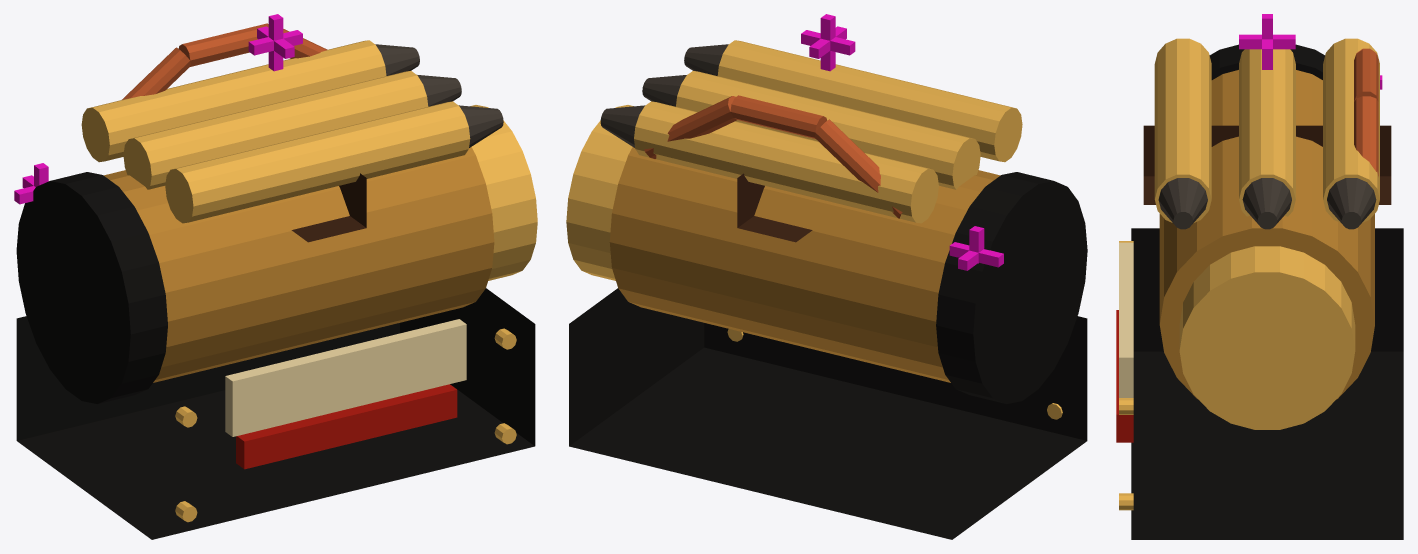
File: PICKUP_ScattergunSlugCanister_Blockout.obj
3 renders of one model, left to right at view 1: azimuth 30°, elevation 25°; view 2: azimuth 150°, elevation 25°; view 3: azimuth 270°, elevation 25°, orthographic.
Parts seen in each view (by area): view 1: CANISTER_BlackenedRackBase, CANISTER_MainSlugDrum, CANISTER_LeftIronCap, SLUG_BrassVisibleRound_03, LABEL_CreamSlugPlate, SLUG_BrassVisibleRound_02, SLUG_BrassVisibleRound_01, LABEL_RedAmmoStripe, CANISTER_RightValveCap, STRAP_DarkLeatherOverDrum, HANDLE_CopperCarryLoop_B, SOCKET_PickupVFX (+5 smaller); view 2: CANISTER_BlackenedRackBase, CANISTER_MainSlugDrum, CANISTER_LeftIronCap, SLUG_BrassVisibleRound_01, SLUG_BrassVisibleRound_03, SLUG_BrassVisibleRound_02, CANISTER_RightValveCap, HANDLE_CopperCarryLoop_B, HANDLE_CopperCarryLoop_A, STRAP_DarkLeatherOverDrum, SOCKET_PickupVFX, HANDLE_CopperCarryLoop_C (+4 smaller); view 3: CANISTER_BlackenedRackBase, CANISTER_RightValveCap, CANISTER_MainSlugDrum, SLUG_BrassVisibleRound_03, SLUG_BrassVisibleRound_02, SLUG_BrassVisibleRound_01, STRAP_DarkLeatherOverDrum, LABEL_CreamSlugPlate, SLUG_HeatTip_03, SLUG_HeatTip_01, SLUG_HeatTip_02, HANDLE_CopperCarryLoop_C (+4 smaller).
Part boxes in pixels (x1,y1,x2,y2): CANISTER_BlackenedRackBase: (16,288,535,539); CANISTER_MainSlugDrum: (104,147,494,382); CANISTER_LeftIronCap: (16,172,167,403); SLUG_BrassVisibleRound_03: (165,101,470,223); LABEL_CreamSlugPlate: (225,319,466,436); SLUG_BrassVisibleRound_02: (123,71,428,189); SLUG_BrassVisibleRound_01: (81,40,386,162); LABEL_RedAmmoStripe: (236,384,457,469); CANISTER_RightValveCap: (470,105,537,280); STRAP_DarkLeatherOverDrum: (291,173,366,242); HANDLE_CopperCarryLoop_B: (178,23,268,66); SOCKET_PickupVFX: (248,14,302,71); CANISTER_BlackenedRackBase: (569,288,1087,539); CANISTER_MainSlugDrum: (609,147,1000,382); CANISTER_LeftIronCap: (936,172,1087,403); SLUG_BrassVisibleRound_01: (634,101,938,223); SLUG_BrassVisibleRound_03: (717,40,1022,162); SLUG_BrassVisibleRound_02: (676,71,980,189); CANISTER_RightValveCap: (566,105,633,280); HANDLE_CopperCarryLoop_B: (730,95,826,138); HANDLE_CopperCarryLoop_A: (814,119,902,218); STRAP_DarkLeatherOverDrum: (737,173,812,242); SOCKET_PickupVFX: (801,14,855,71); HANDLE_CopperCarryLoop_C: (644,96,736,158); CANISTER_BlackenedRackBase: (1131,228,1403,539); CANISTER_RightValveCap: (1179,246,1355,429); CANISTER_MainSlugDrum: (1159,70,1374,399); SLUG_BrassVisibleRound_03: (1154,38,1211,222); SLUG_BrassVisibleRound_02: (1239,49,1295,216); SLUG_BrassVisibleRound_01: (1323,38,1379,222); STRAP_DarkLeatherOverDrum: (1143,125,1391,204); LABEL_CreamSlugPlate: (1119,242,1133,397); SLUG_HeatTip_03: (1158,178,1207,229); SLUG_HeatTip_01: (1327,178,1376,229); SLUG_HeatTip_02: (1242,178,1291,229); HANDLE_CopperCarryLoop_C: (1354,96,1378,176).
Size of what is drawn, in the model's own units: 0.4079 by 0.383 by 0.232.
